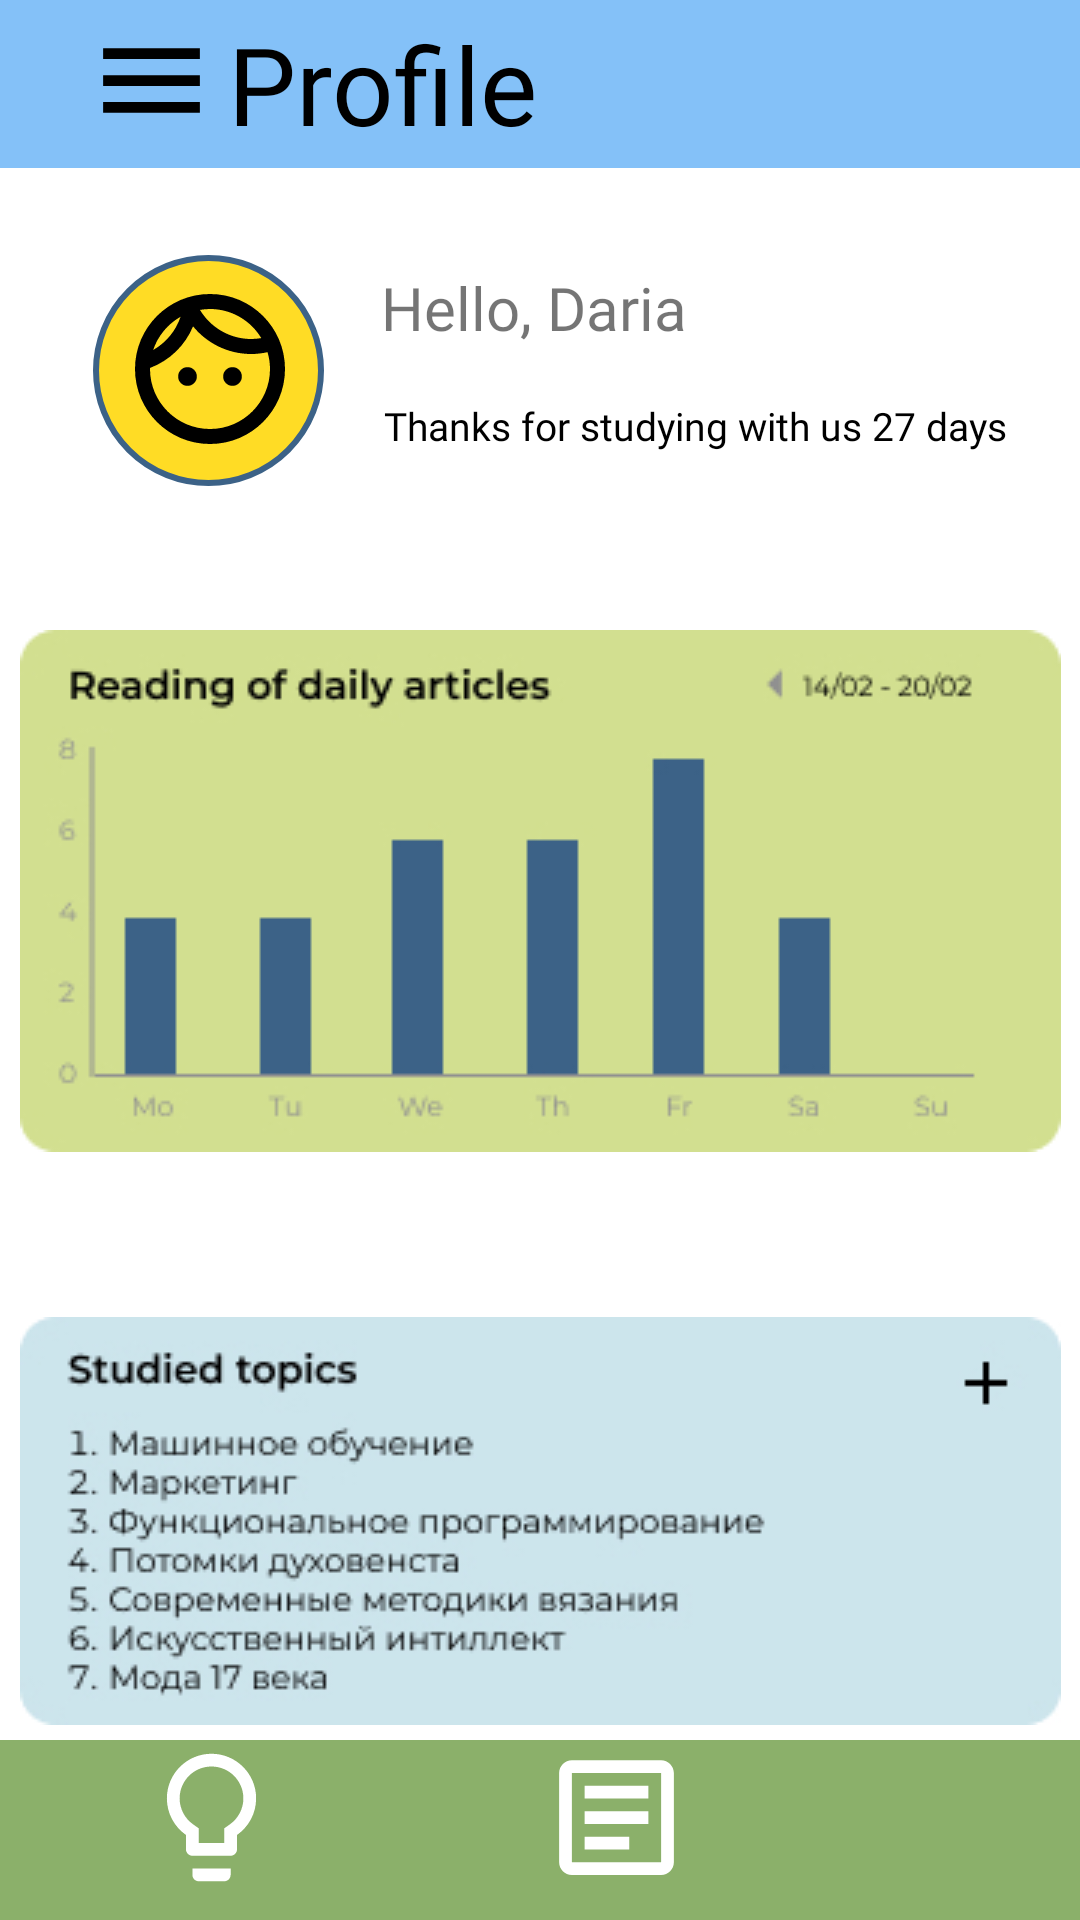

Icon bounding boxes for this 1080w x 1920h phone screenshot, format bbox=(x1, y1, x2, y2):
Fact: bbox=(167, 1753, 256, 1882)
Main articles: bbox=(559, 1760, 674, 1875)
Menu: bbox=(103, 48, 200, 113)
